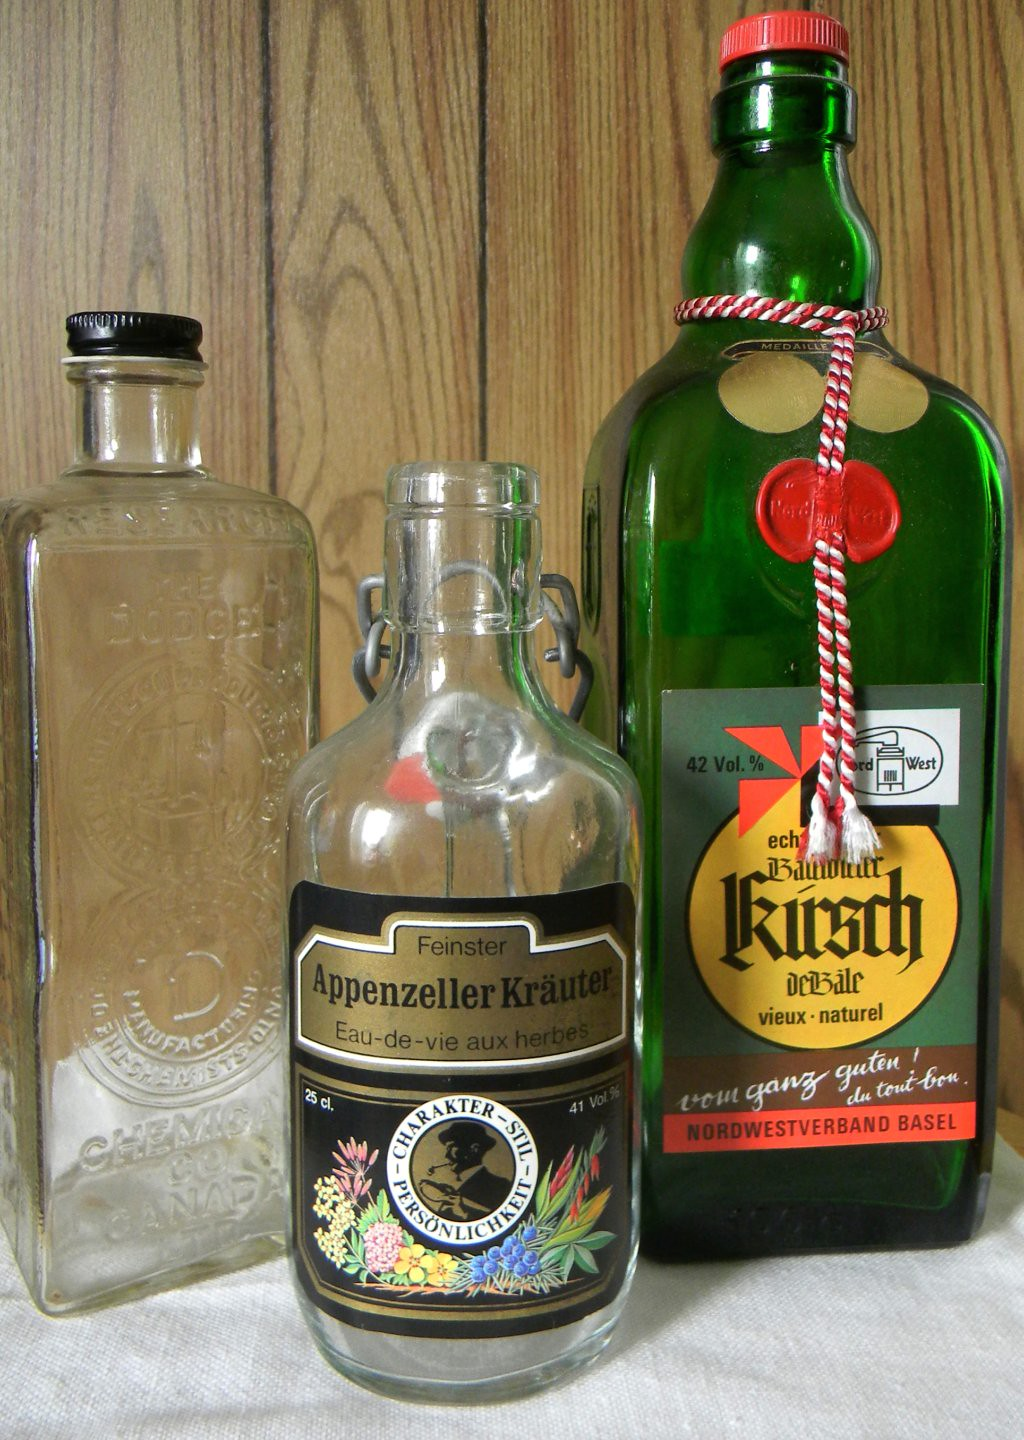bottle: (583, 14, 1024, 1280), (3, 323, 328, 1351), (304, 448, 621, 1409)
